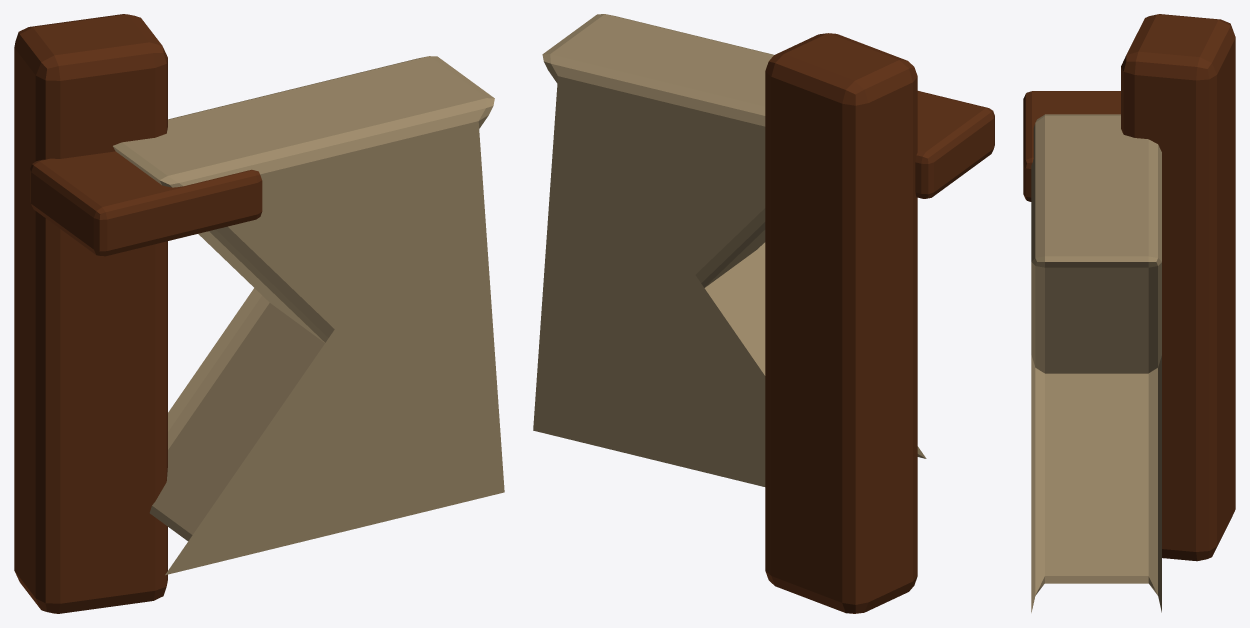
Rendered from archer_role_kit_LOD1.glb.
3 views of the same model, side by side, from view 1: azimuth 30°, elevation 25°; view 2: azimuth 150°, elevation 25°; view 3: azimuth 270°, elevation 25° (orthographic). The views are drawn at different scales.
Parts seen in each view (by area): view 1: LOD1_LightVest, LOD1_QuiverProxy, LOD1_Pauldron; view 2: LOD1_LightVest, LOD1_QuiverProxy, LOD1_Pauldron; view 3: LOD1_LightVest, LOD1_QuiverProxy, LOD1_Pauldron.
Boxes of the visible parts, x1=… form: LOD1_LightVest: x1=113, y1=56, x2=504, y2=575; LOD1_QuiverProxy: x1=14, y1=14, x2=167, y2=613; LOD1_Pauldron: x1=30, y1=151, x2=262, y2=256; LOD1_LightVest: x1=533, y1=14, x2=926, y2=486; LOD1_QuiverProxy: x1=765, y1=33, x2=917, y2=613; LOD1_Pauldron: x1=915, y1=91, x2=994, y2=198; LOD1_LightVest: x1=1031, y1=114, x2=1161, y2=612; LOD1_QuiverProxy: x1=1121, y1=14, x2=1235, y2=561; LOD1_Pauldron: x1=1023, y1=91, x2=1120, y2=201.
Bounding box in the file's own units: 0.7849 × 1.02 × 0.3902.
